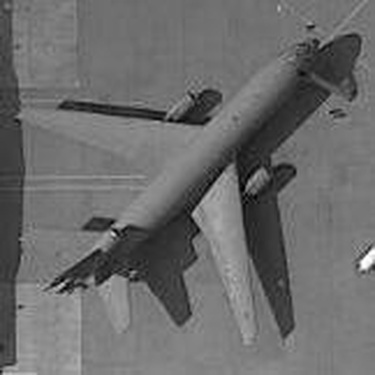airplane: (1, 27, 341, 352)
